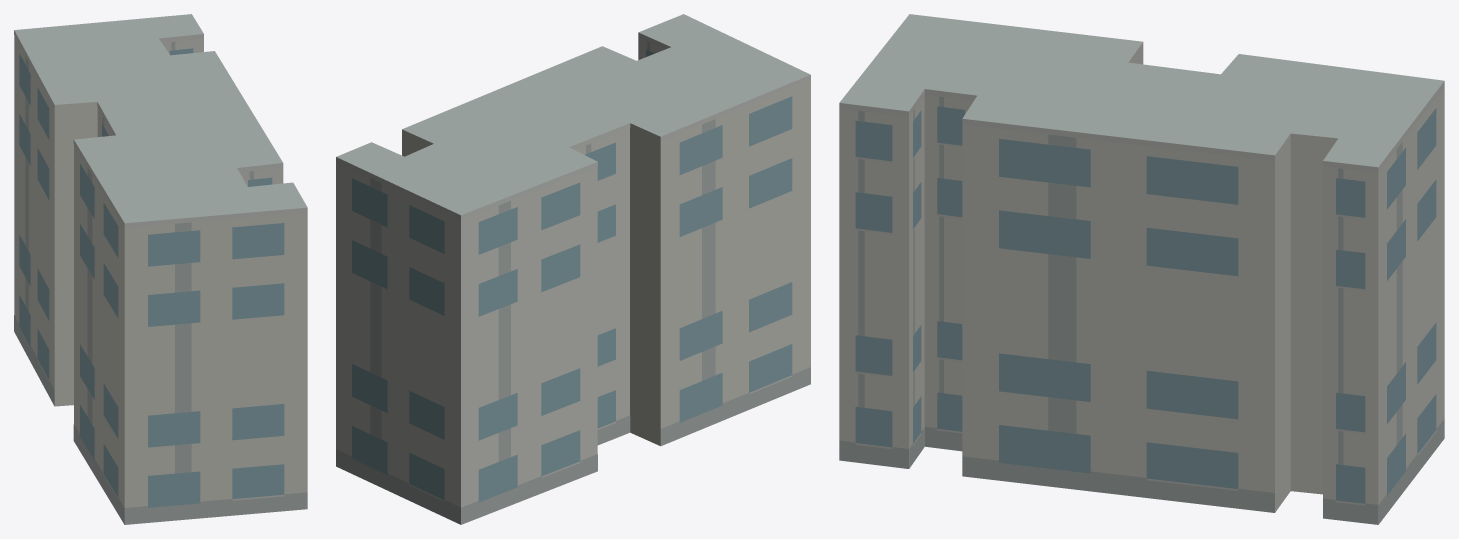
The model's file is survey-upis-32977943.glb.
3 views of the same model, side by side, from view 1: azimuth 30°, elevation 25°; view 2: azimuth 150°, elevation 25°; view 3: azimuth 270°, elevation 25° (orthographic). The views are drawn at different scales.
Parts seen in each view (by area): view 1: survey-upis-32977943.tmp; view 2: survey-upis-32977943.tmp; view 3: survey-upis-32977943.tmp.
Boxes of the visible parts, <box> form: survey-upis-32977943.tmp: <box>14,14,307,524</box>; survey-upis-32977943.tmp: <box>336,14,810,524</box>; survey-upis-32977943.tmp: <box>839,14,1444,524</box>.
Bounding box in the file's own units: 14.07 × 15.3 × 23.48.
